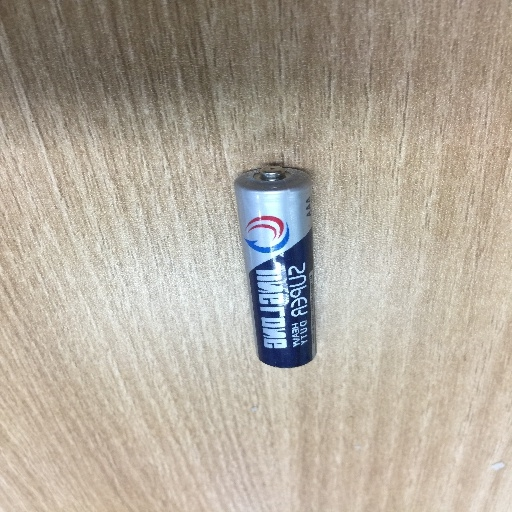Battery_0: (222, 147, 330, 376)
